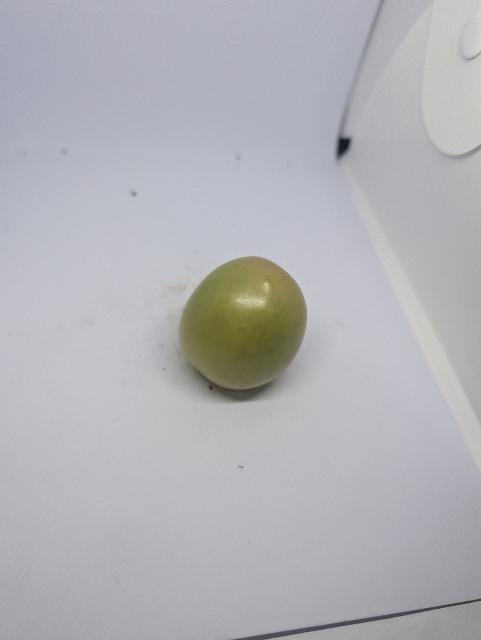green: (166, 242, 315, 400)
